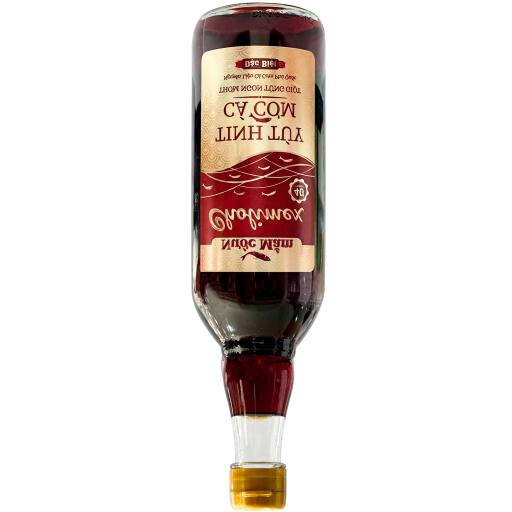bottle: (192, 2, 325, 510)
